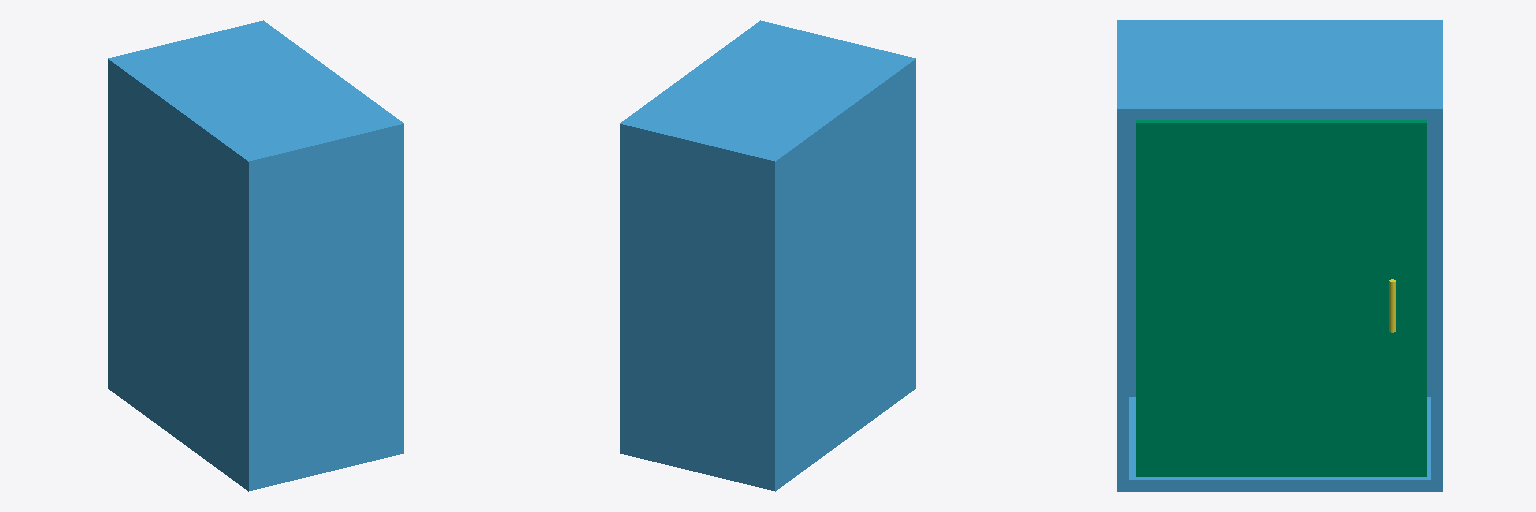
The robot description file, URDF, robot "my_cabinet":
<?xml version="1.0" ?>
<robot name="my_cabinet">
	<link name="world"/>
	<joint name="virtual_joint" type="fixed">
		<parent link="world"/>
		<child link="base_cabinet_link"/>
		<origin xyz="0.0 0.0 0.0" rpy="0.0 0.0 0.0"/>
	</joint>
	<link name="base_cabinet_link">
		<visual>
			<origin xyz="0.0 -0.0025 -0.29440896131689787" rpy="0.0 0.0 0.0"/>
			<geometry>
				<box size="0.3 0.46963442782806347 0.018"/>
			</geometry>
		</visual>
		<collision name="base_cabinet_link_collision_0">
			<origin xyz="0.0 -0.0025 -0.29440896131689787" rpy="0.0 0.0 0.0"/>
			<geometry>
				<box size="0.3 0.46963442782806347 0.018"/>
			</geometry>
		</collision>
		<visual>
			<origin xyz="0.0 0.22331721391403175 0.0" rpy="0.0 0.0 0.0"/>
			<geometry>
				<box size="0.3 0.018 0.6068179226337957"/>
			</geometry>
		</visual>
		<collision name="base_cabinet_link_collision_1">
			<origin xyz="0.0 0.22331721391403175 0.0" rpy="0.0 0.0 0.0"/>
			<geometry>
				<box size="0.3 0.018 0.6068179226337957"/>
			</geometry>
		</collision>
		<visual>
			<origin xyz="0.0 -0.22831721391403176 0.0" rpy="0.0 0.0 0.0"/>
			<geometry>
				<box size="0.3 0.018 0.6068179226337957"/>
			</geometry>
		</visual>
		<collision name="base_cabinet_link_collision_2">
			<origin xyz="0.0 -0.22831721391403176 0.0" rpy="0.0 0.0 0.0"/>
			<geometry>
				<box size="0.3 0.018 0.6068179226337957"/>
			</geometry>
		</collision>
		<visual>
			<origin xyz="0.0 -0.0025 0.29440896131689787" rpy="0.0 0.0 0.0"/>
			<geometry>
				<box size="0.3 0.46963442782806347 0.018"/>
			</geometry>
		</visual>
		<collision name="base_cabinet_link_collision_3">
			<origin xyz="0.0 -0.0025 0.29440896131689787" rpy="0.0 0.0 0.0"/>
			<geometry>
				<box size="0.3 0.46963442782806347 0.018"/>
			</geometry>
		</collision>
		<visual>
			<origin xyz="-0.141 -0.0025 0.0" rpy="0.0 0.0 0.0"/>
			<geometry>
				<box size="0.018 0.46963442782806347 0.6068179226337957"/>
			</geometry>
		</visual>
		<collision name="base_cabinet_link_collision_4">
			<origin xyz="-0.141 -0.0025 0.0" rpy="0.0 0.0 0.0"/>
			<geometry>
				<box size="0.018 0.46963442782806347 0.6068179226337957"/>
			</geometry>
		</collision>
		<inertial>
			<mass value="0.200000"/>
			<inertia ixx="0.009813" ixy="0.0" ixz="0.0" iyy="0.007637" iyz="0.0" izz="0.005176"/>
		</inertial>
	</link>
	<link name="door_link">
		<visual>
			<origin xyz="0.0 -0.20931721391403174 0.0"/>
			<geometry>
				<box size="0.018 0.4186344278280635 0.5608179226337957"/>
			</geometry>
		</visual>
		<collision name="door_link_collision">
			<origin xyz="0.0 -0.20931721391403174 0.0"/>
			<geometry>
				<box size="0.018 0.4186344278280635 0.5608179226337957"/>
			</geometry>
		</collision>
		<inertial>
			<mass value="0.200000"/>
			<inertia ixx="0.008163" ixy="0.0" ixz="0.0" iyy="0.005247" iyz="0.0" izz="0.002926"/>
		</inertial>
	</link>
	<joint name="door_joint" type="revolute">
		<origin xyz="0.141 -0.20931721391403174 0.0" rpy="0.000000 -0.000000 3.141593"/>
		<axis xyz="0 0 1"/>
		<parent link="base_cabinet_link"/>
		<child link="door_link"/>
		<limit effort="50" lower="-1.658062789394613" upper="0" velocity="10"/>
		<dynamics friction="3.5" damping="3.5"/>
	</joint>
	<link name="handle_link">
		<visual>
			<origin xyz="0.0 0.0 0.0" rpy="0.0 0.0 0.0"/>
			<geometry>
				<cylinder length="0.08" radius="0.005"/>
			</geometry>
		</visual>
		<collision name="handle_link_collision_0">
			<origin xyz="0.0 0.0 0.0" rpy="0.0 0.0 0.0"/>
			<geometry>
				<cylinder length="0.08" radius="0.005"/>
			</geometry>
		</collision>
		<visual>
			<origin xyz="-0.01 0.0 0.02" rpy="0.0 1.5707963267948966 0.0"/>
			<geometry>
				<cylinder length="0.02" radius="0.003"/>
			</geometry>
		</visual>
		<collision name="handle_link_collision_1">
			<origin xyz="-0.01 0.0 0.02" rpy="0.0 1.5707963267948966 0.0"/>
			<geometry>
				<cylinder length="0.01" radius="0.003"/>
			</geometry>
		</collision>
		<visual>
			<origin xyz="-0.01 0.0 -0.02" rpy="0.0 1.5707963267948966 0.0"/>
			<geometry>
				<cylinder length="0.02" radius="0.003"/>
			</geometry>
		</visual>
		<collision name="handle_link_collision_2">
			<origin xyz="-0.01 0.0 -0.02" rpy="0.0 1.5707963267948966 0.0"/>
			<geometry>
				<cylinder length="0.02" radius="0.003"/>
			</geometry>
		</collision>
		<inertial>
			<mass value="0.050000"/>
			<inertia ixx="0.000027" ixy="0.0" ixz="0.0" iyy="0.000029" iyz="0.0" izz="0.000003"/>
		</inertial>
	</link>
	<joint name="handle_joint" type="fixed">
		<origin xyz="-0.028999999999999998 -0.3686344278280635 0.0" rpy="0.000000 -0.000000 3.141593"/>
		<parent link="door_link"/>
		<child link="handle_link"/>
	</joint>
	<gazebo reference="base_cabinet_link">
		<sensor name="main_sensor" type="contact">
			<selfCollide>true</selfCollide>
			<alwaysOn>true</alwaysOn>
			<updateRate>5.0</updateRate>
			<material>Gazebo/Red</material>
			<contact>
				<collision>base_cabinet_link_collision_0_collision</collision>
				<collision>base_cabinet_link_collision_1_collision</collision>
				<collision>base_cabinet_link_collision_2_collision</collision>
				<collision>base_cabinet_link_collision_3_collision</collision>
				<collision>base_cabinet_link_collision_4_collision</collision>
			</contact>
			<plugin name="gazebo_ros_bumper_controller" filename="libgazebo_ros_bumper.so">
				<bumperTopicName>/contact</bumperTopicName>
				<frameName>world</frameName>
			</plugin>
		</sensor>
	</gazebo>
	<gazebo reference="door_link">
		<sensor name="main_sensor" type="contact">
			<selfCollide>true</selfCollide>
			<alwaysOn>true</alwaysOn>
			<updateRate>5.0</updateRate>
			<material>Gazebo/Red</material>
			<contact>
				<collision>door_link_collision_collision</collision>
			</contact>
			<plugin name="gazebo_ros_bumper_controller" filename="libgazebo_ros_bumper.so">
				<bumperTopicName>/contact_door</bumperTopicName>
				<frameName>contact_door</frameName>
			</plugin>
		</sensor>
	</gazebo>
	<gazebo reference="door_link">
		<mu>3.0</mu>
		<mu2>3.0</mu2>
		<kp>10000000</kp>
		<kd>100</kd>
	</gazebo>
</robot>

--- Facts derived from the render (not from the file) ---
3 views of the same robot in one strip: view 1: azimuth 30°, elevation 25°; view 2: azimuth 150°, elevation 25°; view 3: azimuth 270°, elevation 25° (orthographic).
Model my_cabinet with 4 links and 3 joints (1 revolute, 2 fixed), rooted at world, posed every joint at zero.
Links seen in each view (by area): view 1: base_cabinet_link; view 2: base_cabinet_link; view 3: door_link, base_cabinet_link.
Boxes of the visible links, x1=… form: base_cabinet_link: x1=108, y1=20, x2=403, y2=491; base_cabinet_link: x1=620, y1=20, x2=915, y2=491; door_link: x1=1136, y1=120, x2=1426, y2=476; base_cabinet_link: x1=1117, y1=20, x2=1442, y2=491.
Bounding box of the posed robot: 0.325 × 0.4696 × 0.6068 m (x, y, z).
Geometry: primitives only (box / cylinder / sphere), no mesh files.
